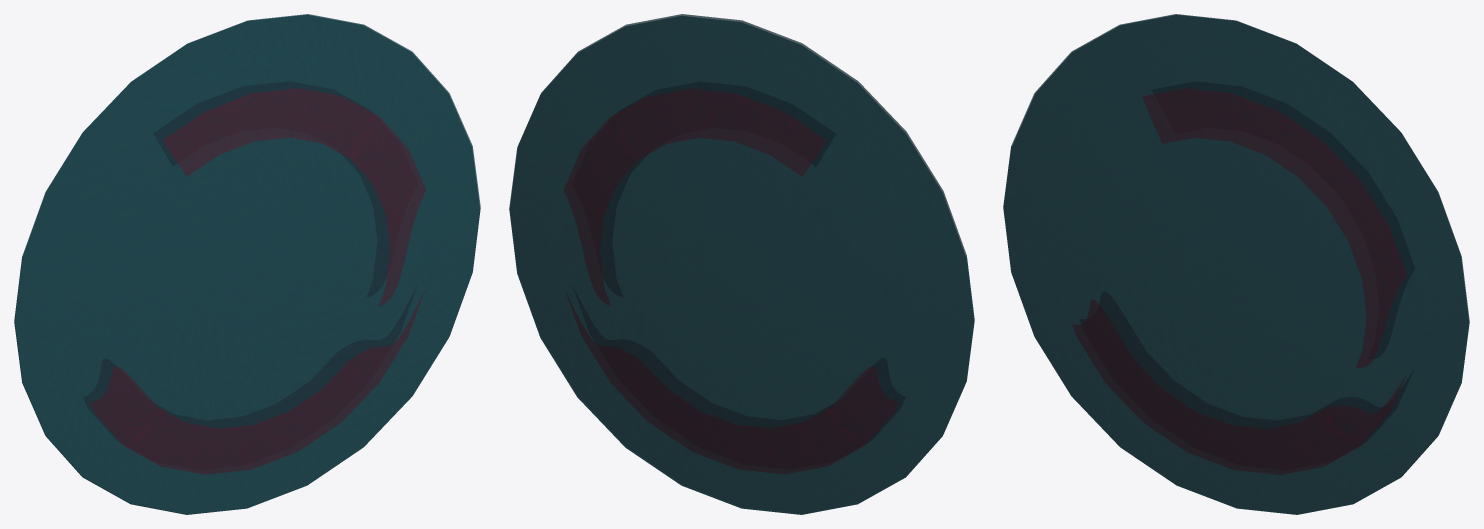
Rendered from original-34.obj.
3 renders of one model, left to right at view 1: azimuth 30°, elevation 25°; view 2: azimuth 150°, elevation 25°; view 3: azimuth 330°, elevation 25°, orthographic.
Parts seen in each view (by area): view 1: mesh18/mesh18-geometry#mesh18-geometry; view 2: mesh18/mesh18-geometry#mesh18-geometry; view 3: mesh18/mesh18-geometry#mesh18-geometry.
Part boxes in pixels (x1,y1,x2,y2): mesh18/mesh18-geometry#mesh18-geometry: (14,14,480,514); mesh18/mesh18-geometry#mesh18-geometry: (509,14,974,514); mesh18/mesh18-geometry#mesh18-geometry: (1003,14,1469,514).
Size of the model in its own units: 0.4114 by 0.4125 by 0.029.
Materials: 2 (1 with a texture image).
